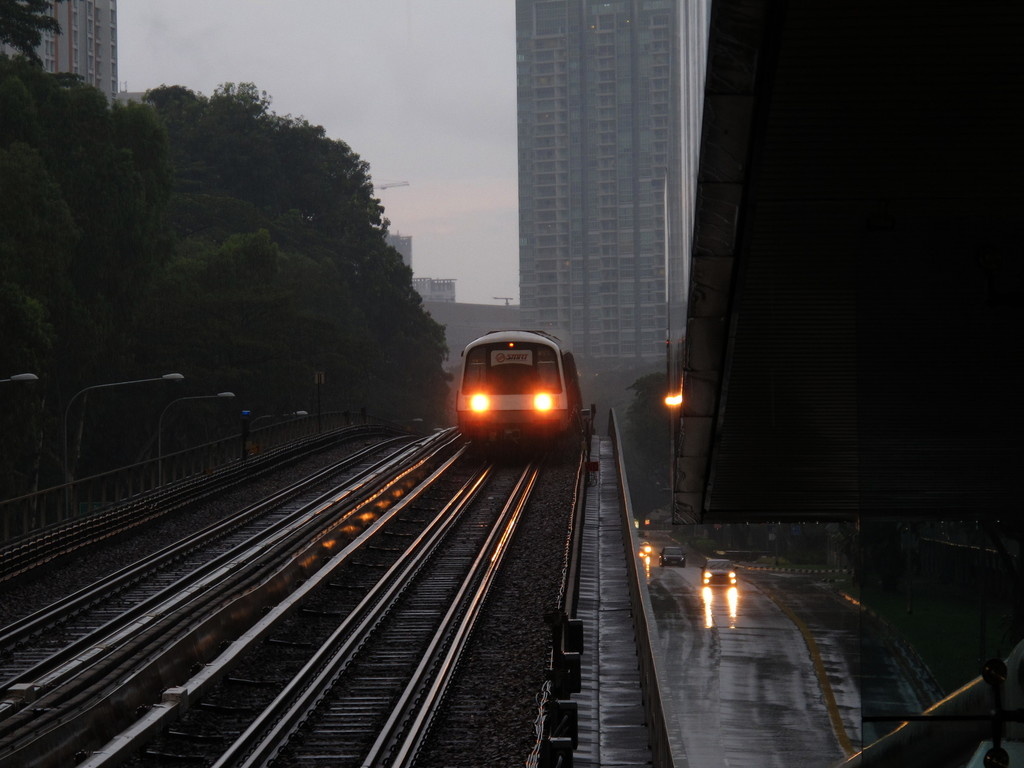train: (454, 325, 585, 467)
